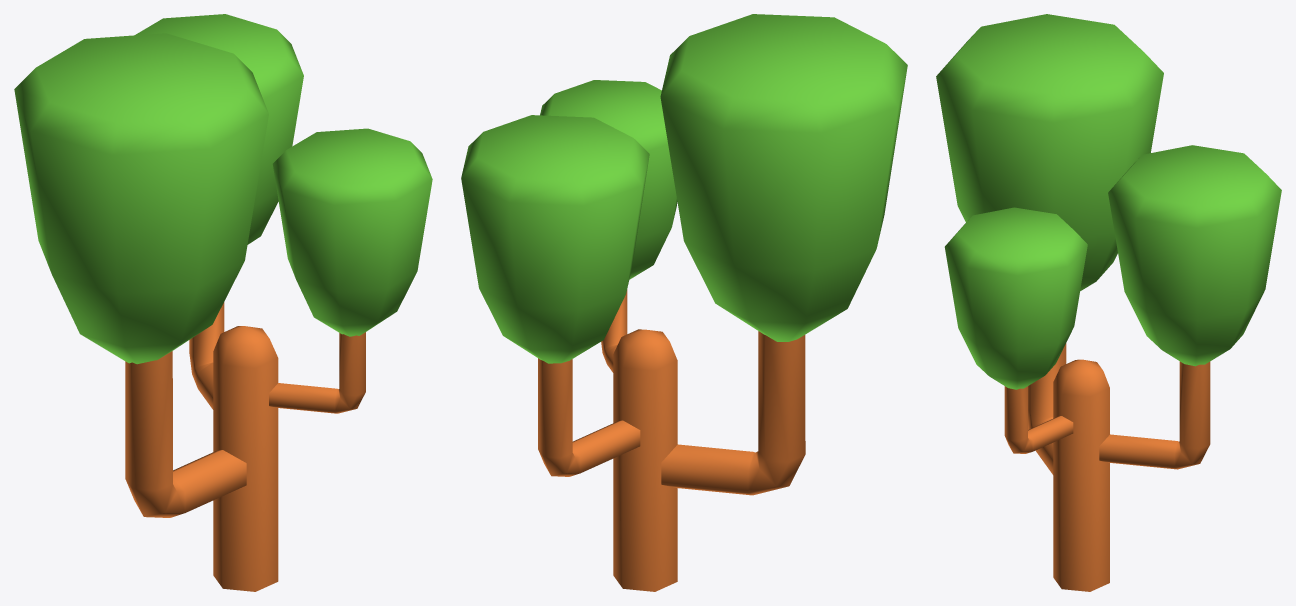
Rendered from Tree.037.fbx.
The picture shows the model from 3 angles, left to right: view 1: azimuth 30°, elevation 25°; view 2: azimuth 150°, elevation 25°; view 3: azimuth 270°, elevation 25°; orthographic projection. The views are drawn at different scales.
Visible parts, largest first — view 1: Tree.037; view 2: Tree.037; view 3: Tree.037.
Boxes of the visible parts, left/top/right/bottom form: Tree.037: left=14, top=14, right=432, bottom=591; Tree.037: left=461, top=14, right=907, bottom=591; Tree.037: left=936, top=14, right=1281, bottom=591.
Bounding box in the file's own units: 506 × 699 × 462.
